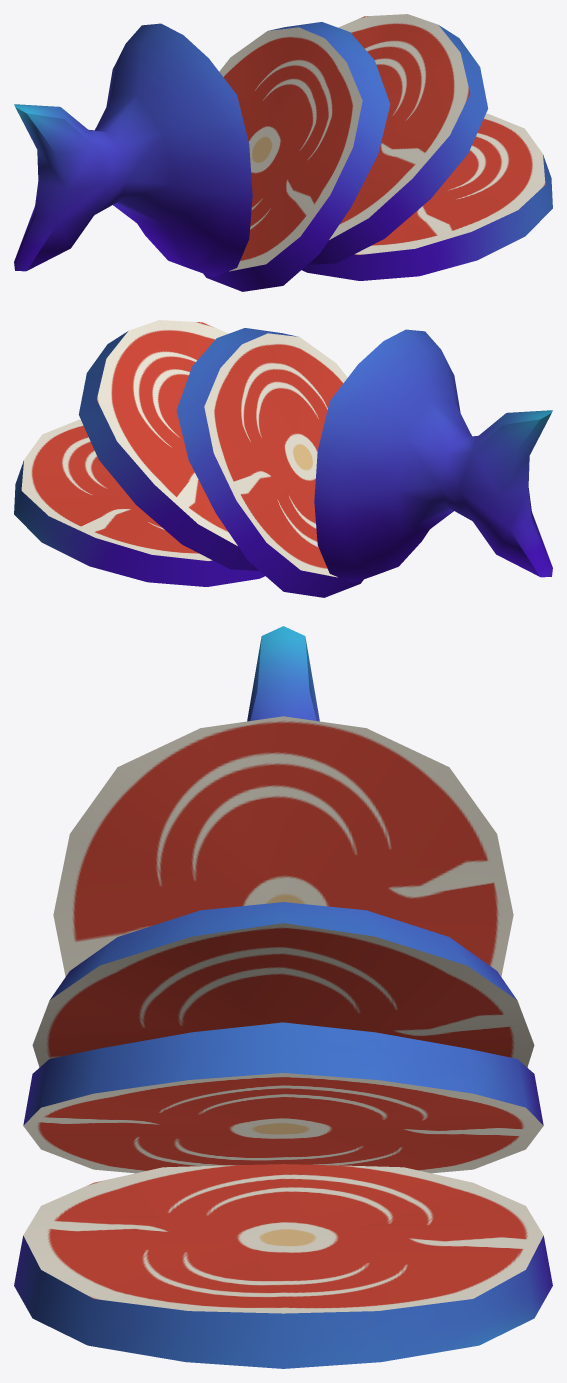
File: Fish_01_S3.fbx
3 renders of one model, top to bottom at view 1: azimuth 30°, elevation 25°; view 2: azimuth 150°, elevation 25°; view 3: azimuth 270°, elevation 25°, orthographic. The views are drawn at different scales.
Visible parts, largest first — view 1: Fish_01_S3; view 2: Fish_01_S3; view 3: Fish_01_S3.
Part boxes in pixels (<box>): Fish_01_S3: <box>14,14,552,291</box>; Fish_01_S3: <box>14,320,552,597</box>; Fish_01_S3: <box>14,626,552,1368</box>.
Bounding box in the file's own units: 83.04 × 37.91 × 42.86.
